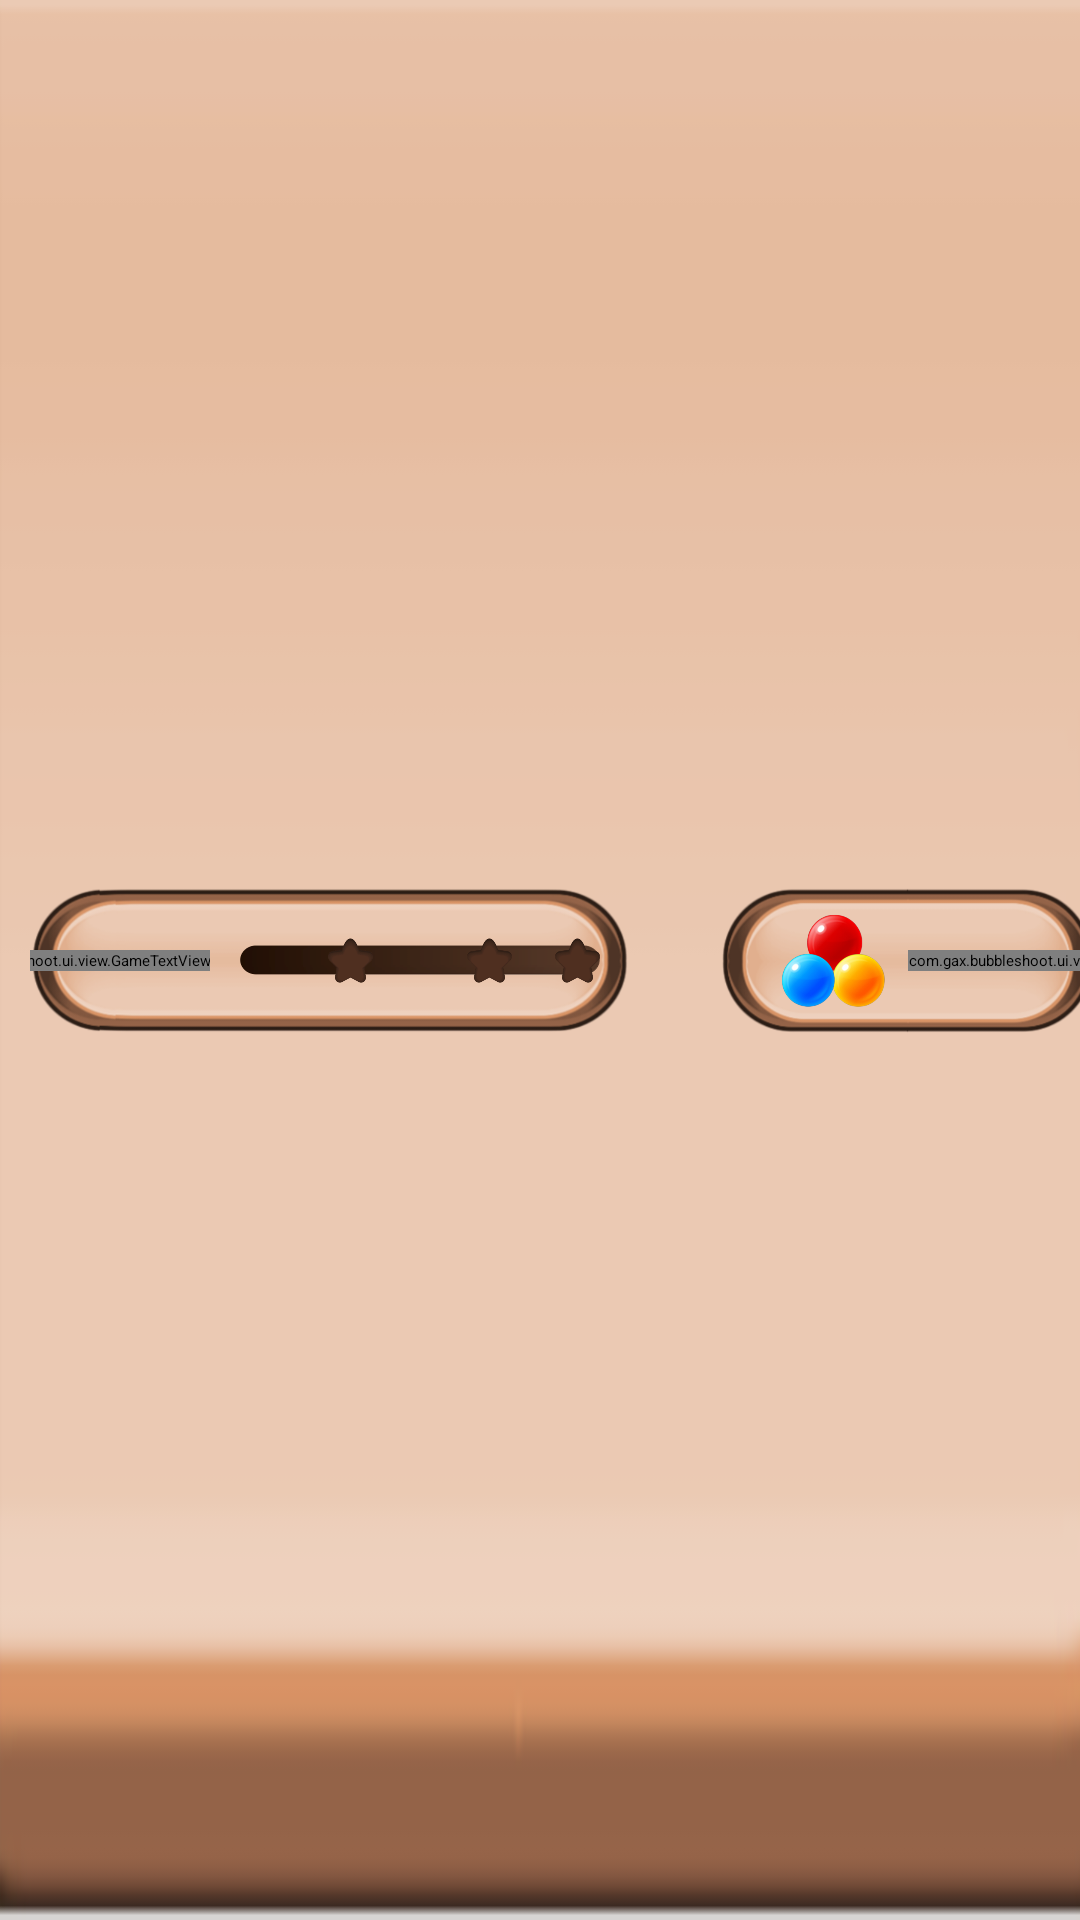

Icon click points for this 1080w x 1920h phone screenshot, format (x=x, y=y):
target pop: (x=833, y=960)
